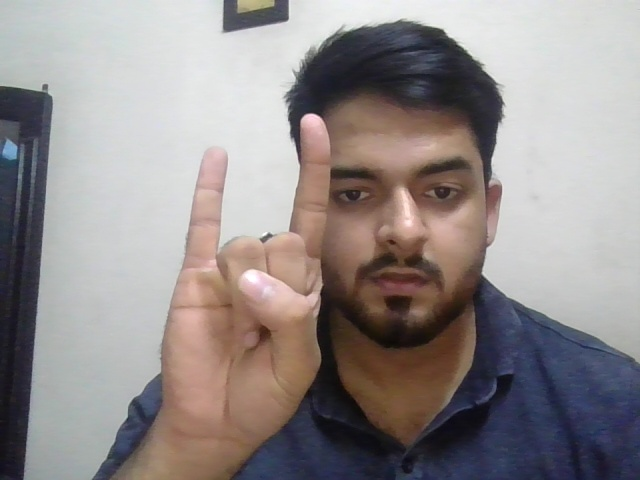iloveyou: (159, 111, 331, 449)
